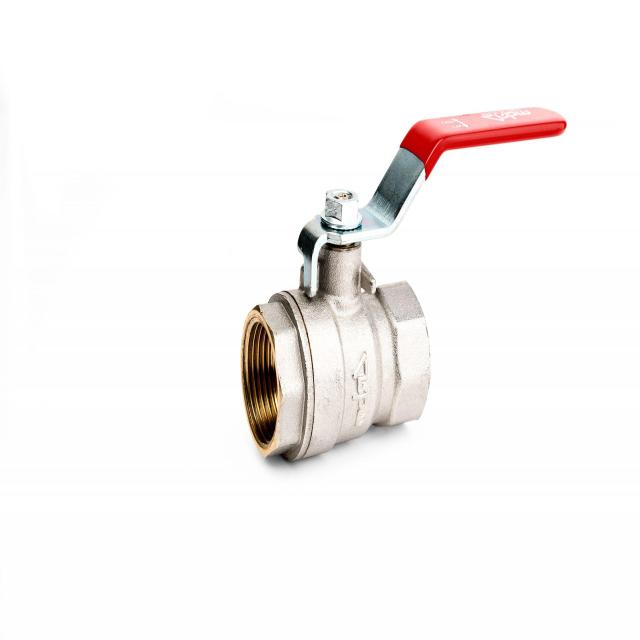opened_valve: (239, 100, 570, 466)
